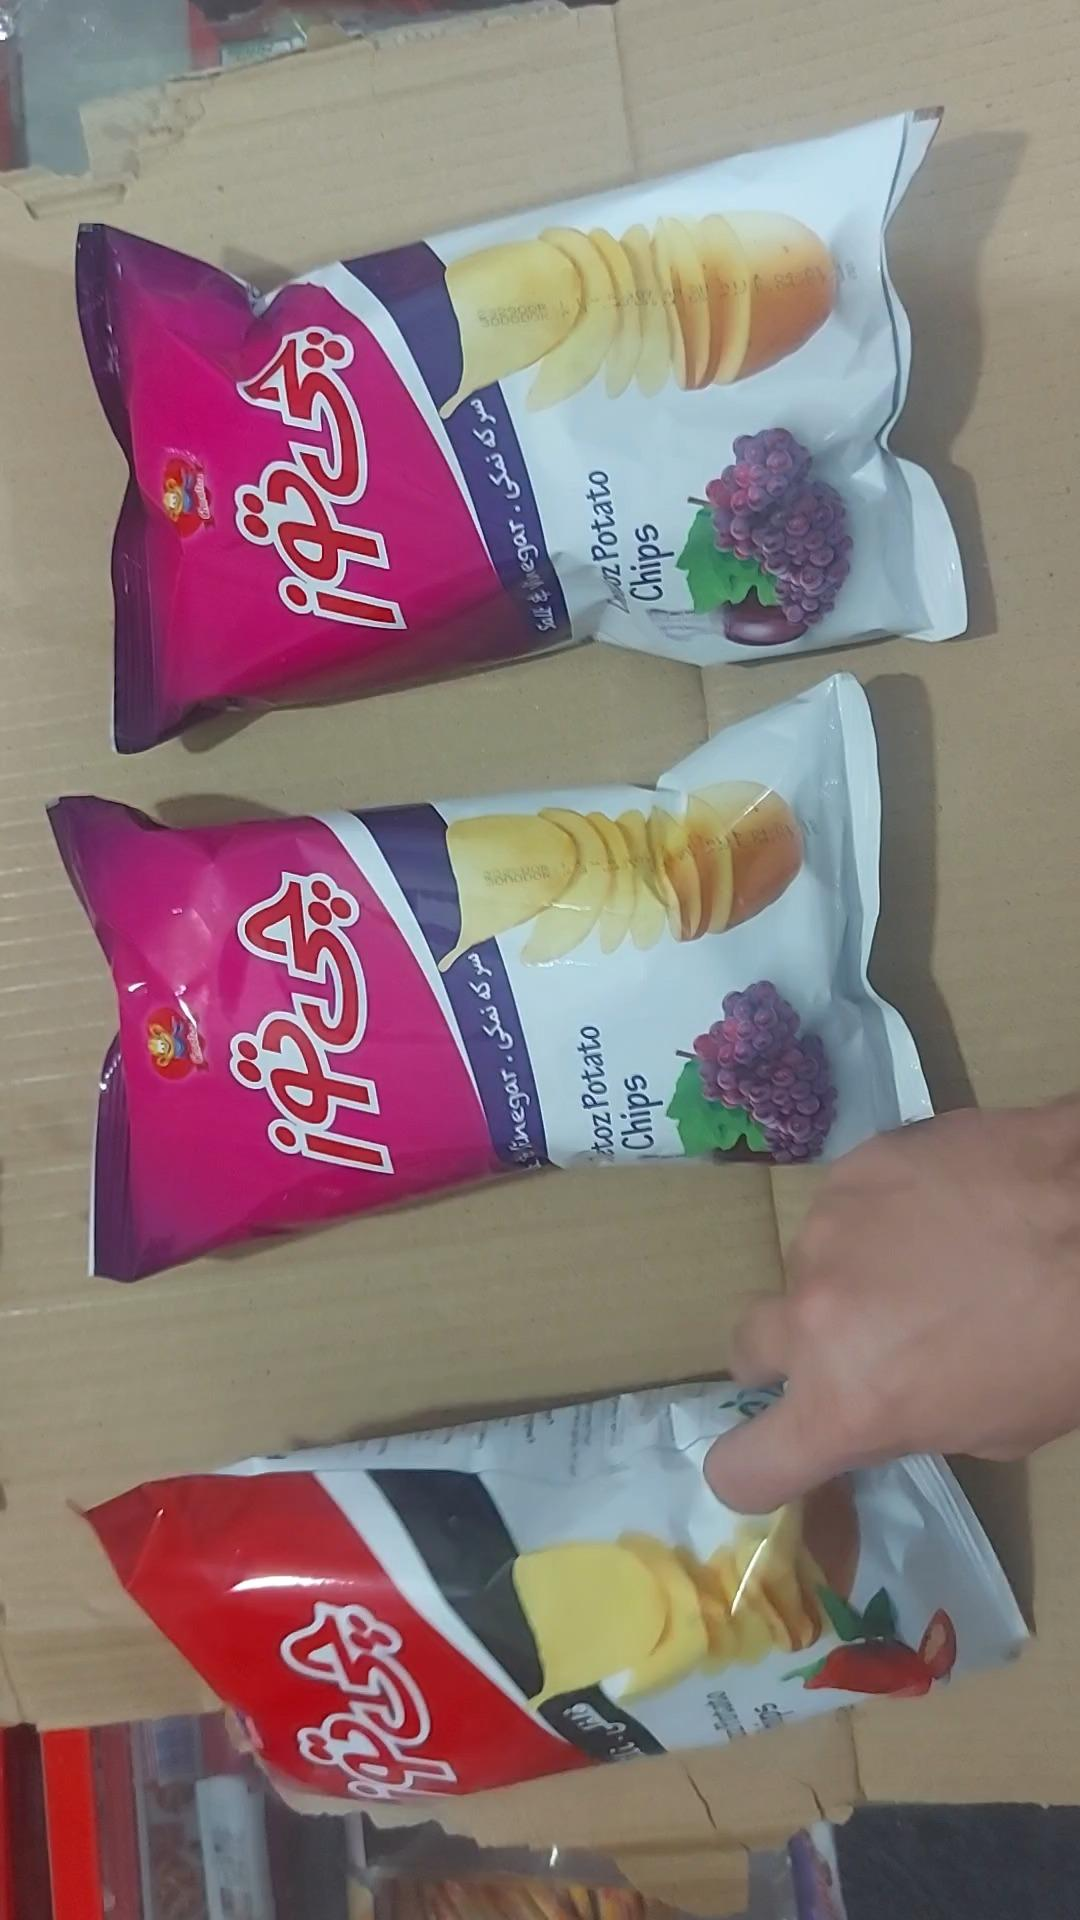Cheetoz chili chips: (84, 1383, 1027, 1808)
Cheetoz vinegar chips: (76, 113, 968, 752), (50, 678, 928, 1280)
